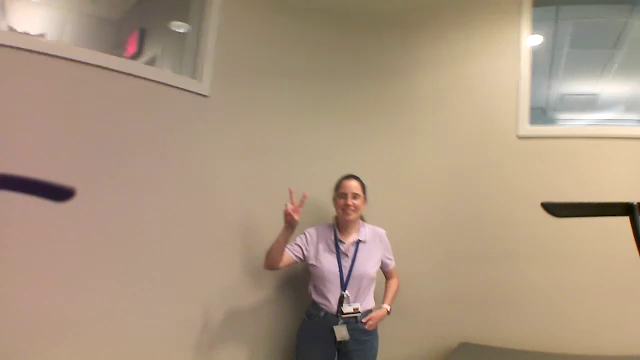peace: (275, 182, 312, 229)
